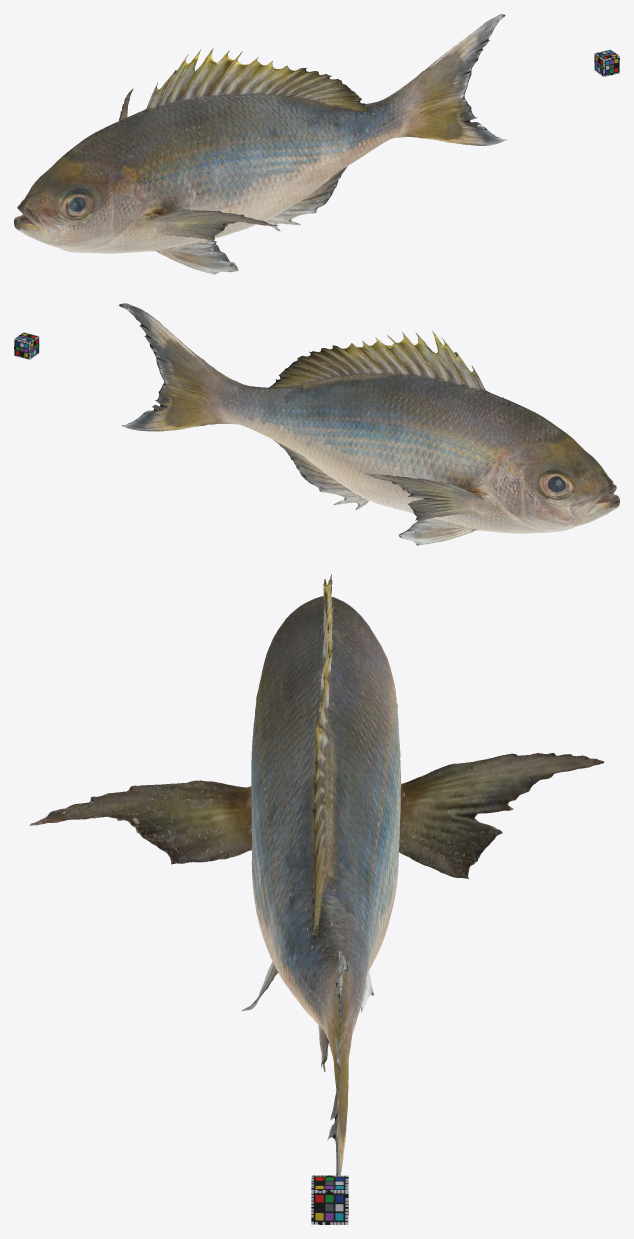
Rendered from scan_snapper.glb.
3 renders of one model, top to bottom at view 1: azimuth 30°, elevation 25°; view 2: azimuth 150°, elevation 25°; view 3: azimuth 270°, elevation 25°, orthographic. The views are drawn at different scales.
Visible parts, largest first — view 1: Object_6, Object_4; view 2: Object_6, Object_4; view 3: Object_6, Object_4.
Part boxes in pixels (bbox=[...]): Object_6: bbox=[14, 14, 506, 274]; Object_4: bbox=[594, 49, 619, 76]; Object_6: bbox=[119, 303, 619, 545]; Object_4: bbox=[14, 332, 39, 359]; Object_6: bbox=[29, 574, 604, 1175]; Object_4: bbox=[311, 1175, 348, 1224].
Bounding box in the file's own units: 0.3607 × 0.1213 × 0.1502.
Materials: 2 (2 with a texture image).
